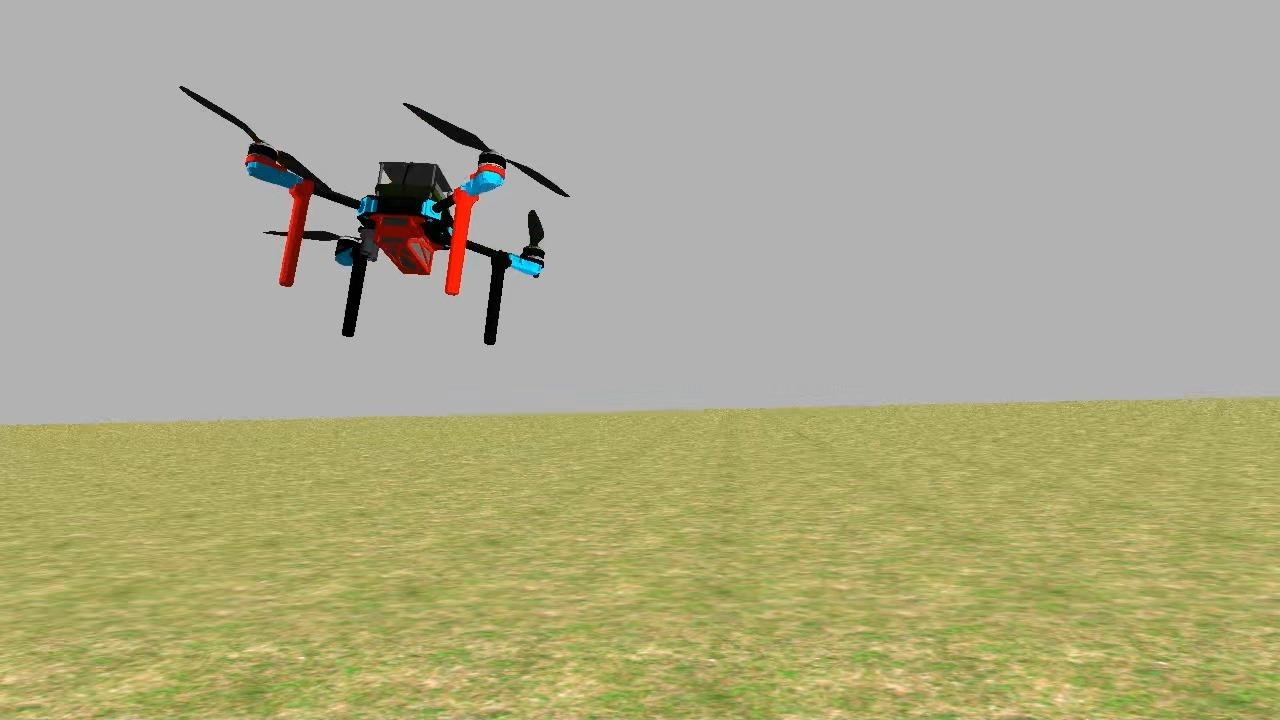UAV: (230, 126, 574, 348)
